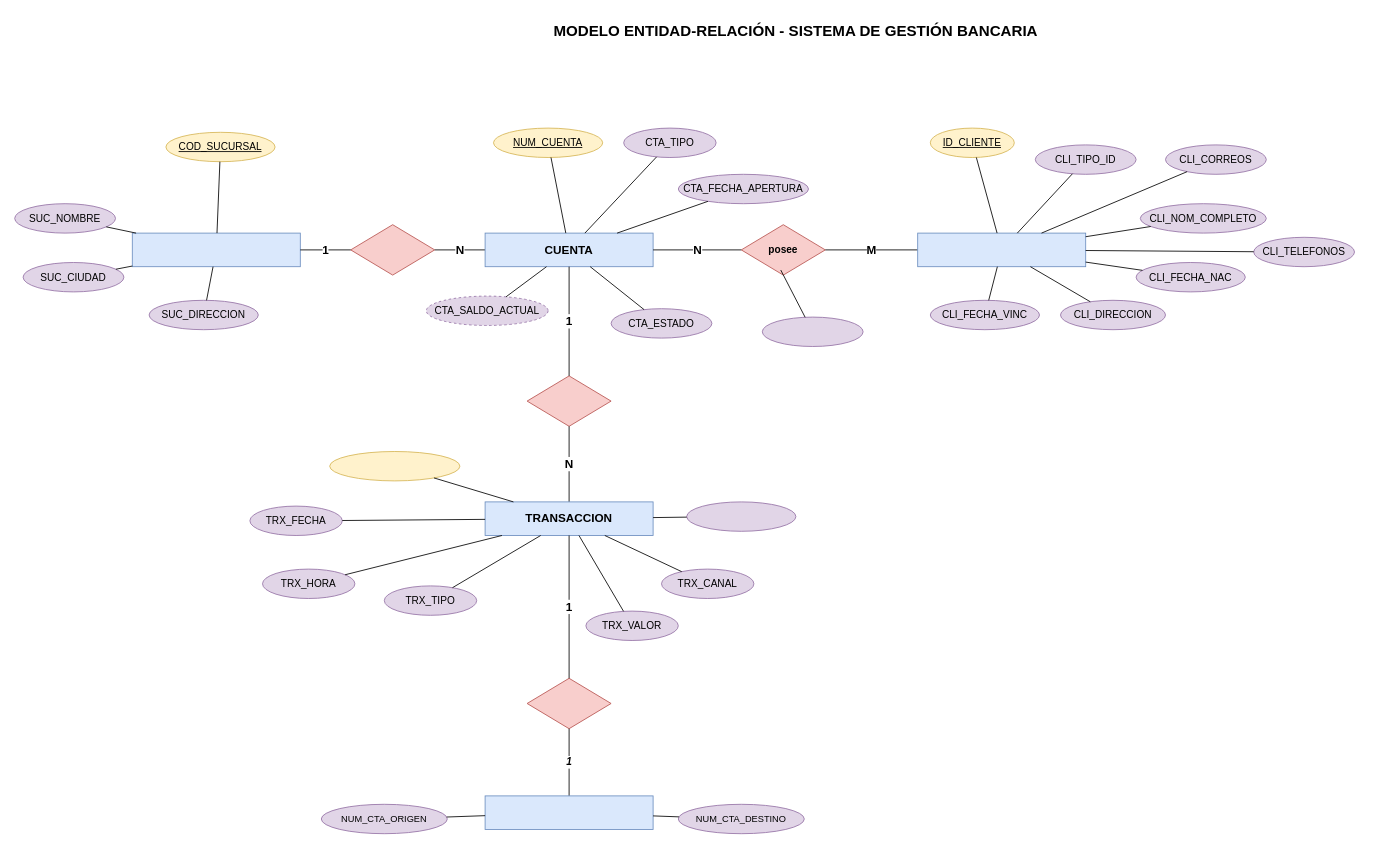
This 1399x848 diagram has some shape labels left out. The shapes that lost their labels are listed below. From the top down, each one's centre as x and y in pixels, then its label:
At [215,249]: "SUCURSAL".
At [392,249]: "abre".
At [1001,249]: "CLIENTE".
At [812,331]: "ROL_TITULAR".
At [568,400]: "registra".
At [394,466]: "ID_TRANSACCION".
At [741,516]: "TRX_DESCRIPCION".
At [568,703]: "especializa".
At [568,812]: "TRANSFERENCIA".
